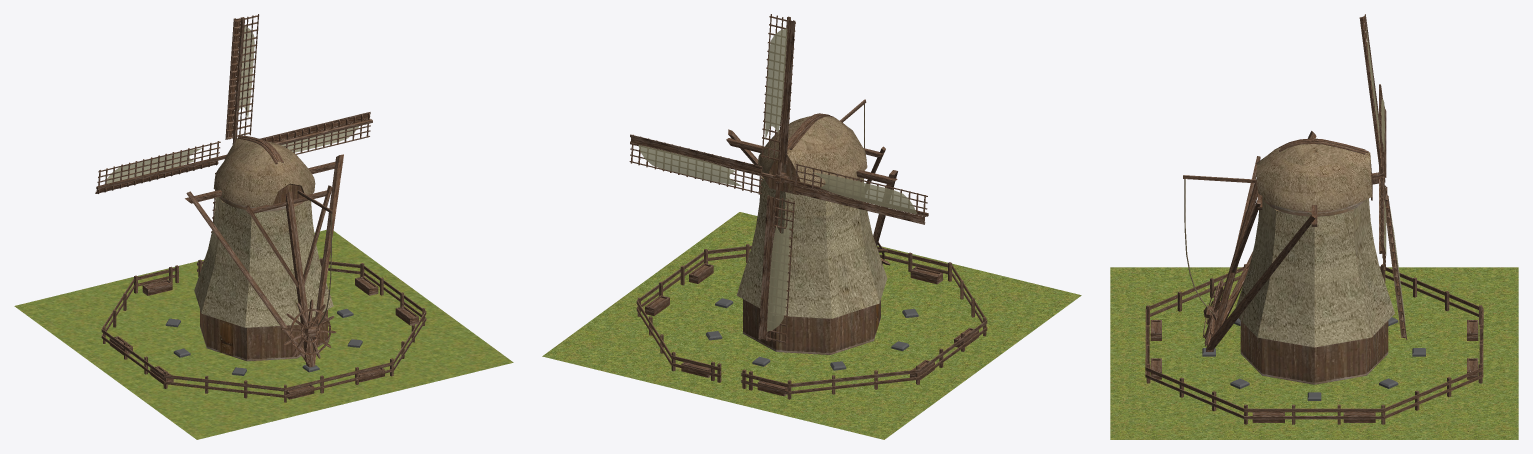
3 views of the same model, side by side, from view 1: azimuth 30°, elevation 25°; view 2: azimuth 150°, elevation 25°; view 3: azimuth 270°, elevation 25° (orthographic). The views are drawn at different scales.
Parts seen in each view (by area): view 1: pPlane1, WindMill1, polySurface109, polySurface114, WindMill_Cap, pPipe2, polySurface112, polySurface111, polySurface110; view 2: pPlane1, WindMill1, polySurface114, WindMill_Cap, pPipe2, polySurface109, polySurface113, polySurface112, polySurface110, polySurface111; view 3: pPlane1, WindMill1, WindMill_Cap, polySurface109, pPipe2, polySurface114.
Part boxes in pixels (x1,y1,x2,y2): pPlane1: (14,230,513,439); WindMill1: (194,196,333,361); polySurface109: (185,135,343,367); polySurface114: (95,14,372,232); WindMill_Cap: (213,137,315,207); pPipe2: (101,261,426,397); polySurface112: (104,148,201,184); polySurface111: (239,26,254,117); polySurface110: (281,126,359,152); pPlane1: (542,212,1081,439); WindMill1: (736,176,887,354); polySurface114: (629,14,928,344); WindMill_Cap: (757,115,867,194); pPipe2: (636,245,987,394); polySurface109: (726,99,897,265); polySurface113: (767,221,789,331); polySurface112: (813,172,916,214); polySurface110: (638,145,742,186); polySurface111: (765,28,787,138); pPlane1: (1110,267,1518,439); WindMill1: (1235,198,1394,384); WindMill_Cap: (1256,138,1372,211); polySurface109: (1183,131,1368,351); pPipe2: (1145,266,1483,419); polySurface114: (1359,14,1407,340).
Bounding box in the file's own units: 11.11 × 10.09 × 11.11.
Materials: 5 (3 with a texture image).
